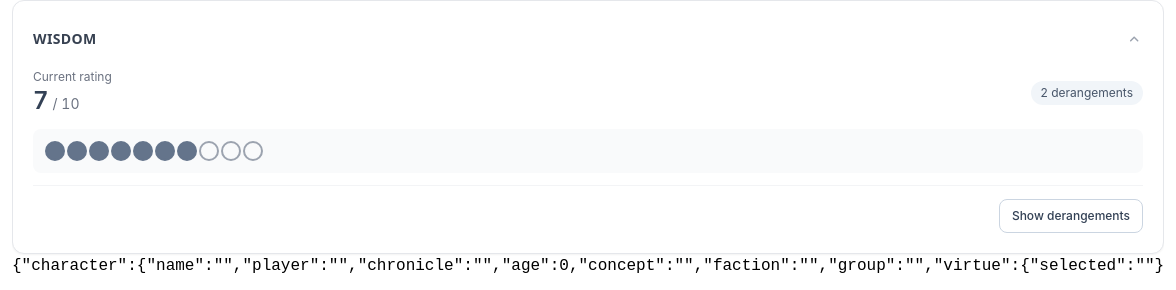
Test: character tracker controls › lists recorded names in the collapsed count tooltip and drops legacy quantities from exports
Hover over the button "2 derangements" at (1087, 93), box [1030, 81, 1143, 105]
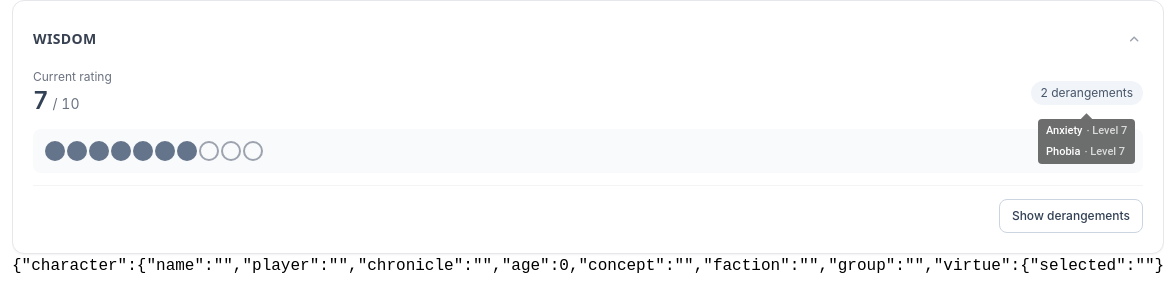
Now the list item "Anxiety" is shown, box [1046, 124, 1082, 137]
Now the tooltip shows "Phobia", box [1046, 144, 1080, 158]
Now the tooltip shows "Level 7", box [1038, 105, 1135, 164]
